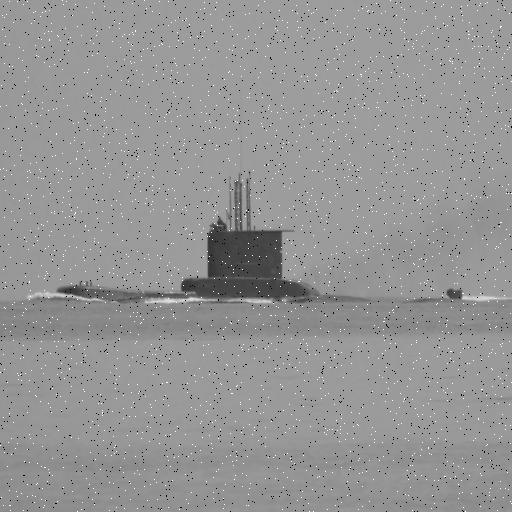submarine: (56, 169, 463, 307)
